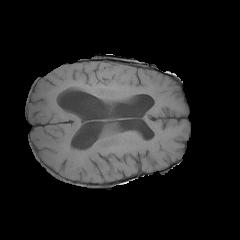glioma: (50, 82, 159, 108)
